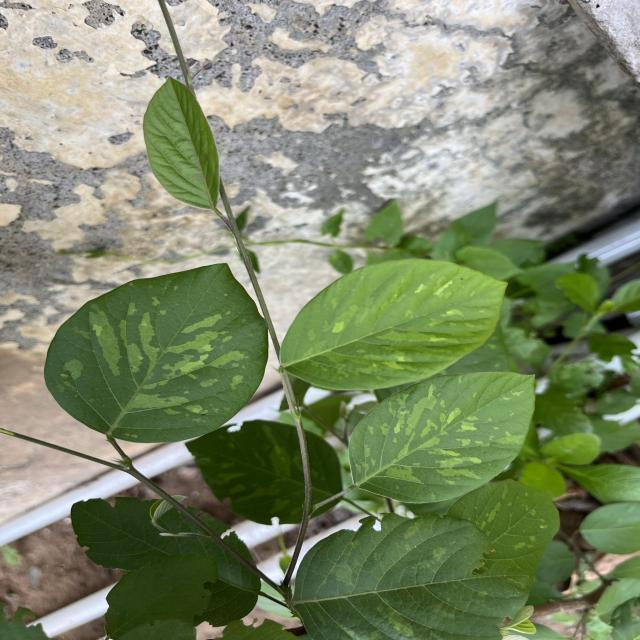Desmodium gangeticum: (41, 258, 271, 446), (277, 255, 512, 392), (346, 369, 538, 507)
